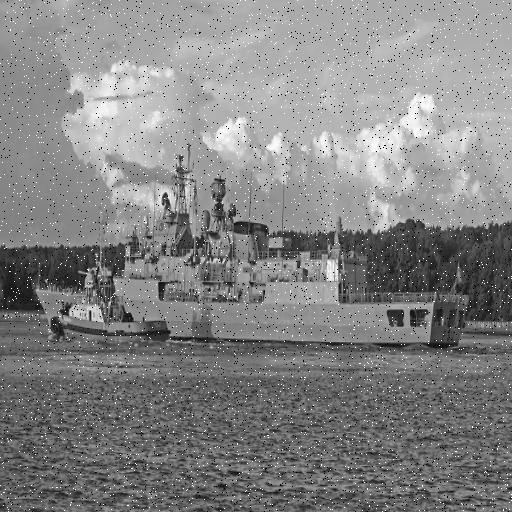Fragata: (35, 150, 474, 342)
